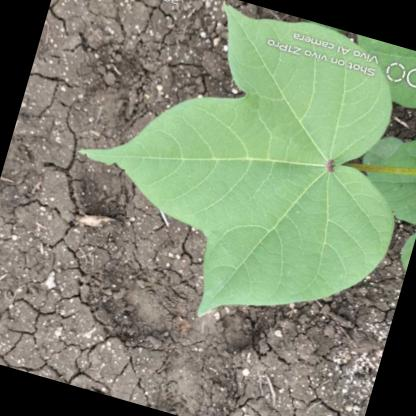cotton: (41, 0, 416, 365)
